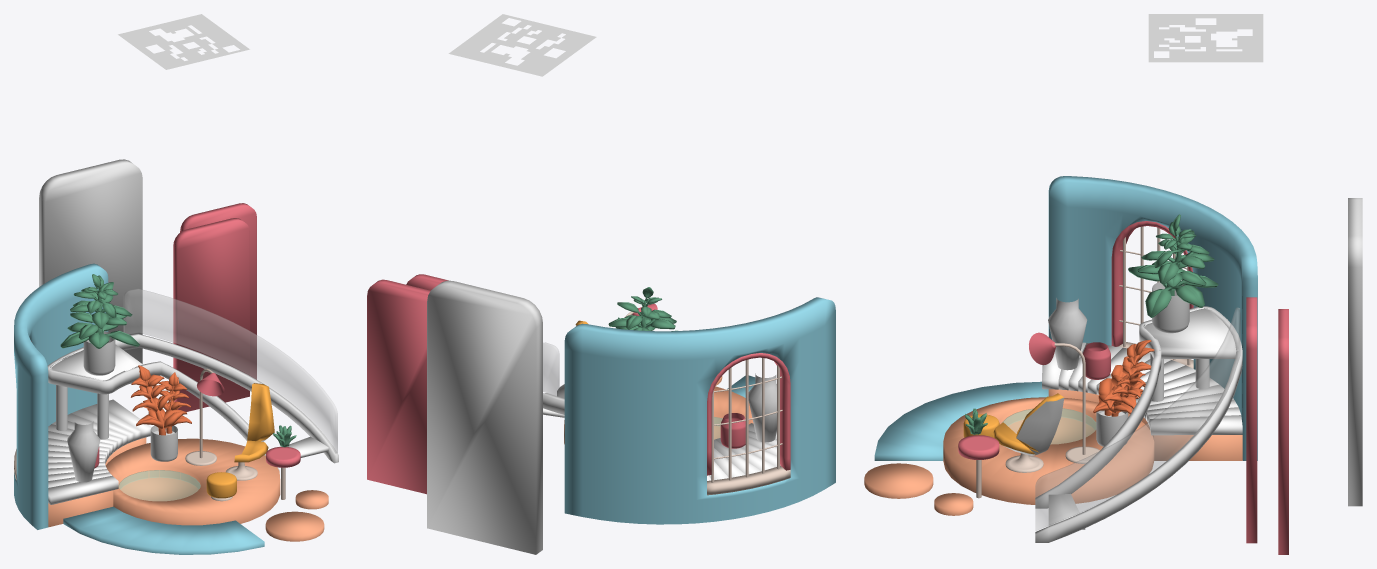
The model's file is relax.glb.
3 views of the same model, side by side, from view 1: azimuth 30°, elevation 25°; view 2: azimuth 150°, elevation 25°; view 3: azimuth 270°, elevation 25° (orthographic). The views are drawn at different scales.
Visible parts, largest first — view 1: Plane.001, Plane.007, Circle.002, Circle, Vert, Vert.001, Circle.005, Circle.018, Plane, Plane.008, Circle.012, Circle.003 (+14 smaller); view 2: Circle.002, Plane.001, Plane.008, Plane, Circle.026, Circle.018, Circle.024, Circle.021, Circle.007, Circle, Vert, Circle.022; view 3: Circle.002, Vert, Circle, Vert.001, Circle.018, Circle.005, Plane, Plane.001, Plane.007, Vert.002, Plane.008, Circle.001 (+13 smaller).
Part boxes in pixels (box(x1,y1,x2,y2)): Plane.001: box(39, 159, 142, 383); Plane.007: box(173, 218, 249, 411); Circle.002: box(14, 263, 108, 529); Circle: box(106, 438, 280, 525); Vert: box(124, 289, 337, 453); Vert.001: box(47, 334, 338, 470); Circle.005: box(63, 506, 264, 554); Circle.018: box(48, 399, 151, 504); Plane: box(118, 14, 249, 69); Plane.008: box(180, 203, 256, 379); Circle.012: box(119, 470, 200, 500); Circle.003: box(265, 511, 324, 541); Circle.002: box(564, 297, 835, 524); Plane.001: box(427, 280, 542, 554); Plane.008: box(367, 279, 430, 494); Plane: box(448, 14, 596, 76); Circle.026: box(707, 353, 790, 475); Circle.018: box(707, 423, 780, 480); Circle.024: box(711, 358, 779, 482); Circle.021: box(748, 373, 776, 442); Circle.007: box(707, 465, 790, 495); Circle: box(564, 386, 753, 444); Vert: box(543, 342, 559, 395); Circle.022: box(720, 413, 745, 448); Circle.002: box(1048, 176, 1257, 460); Vert: box(1035, 308, 1240, 530); Circle: box(943, 397, 1154, 504); Vert.001: box(1035, 306, 1242, 542); Circle.018: box(1042, 342, 1242, 435); Circle.005: box(874, 381, 1048, 460); Plane: box(1148, 14, 1263, 62); Plane.001: box(1348, 198, 1362, 506); Plane.007: box(1246, 297, 1257, 543); Vert.002: box(1143, 308, 1238, 358); Plane.008: box(1278, 309, 1288, 554); Circle.001: box(1048, 389, 1242, 460).
Size of what is drawn, in the model's own units: 8.77 by 10.25 by 10.13.
